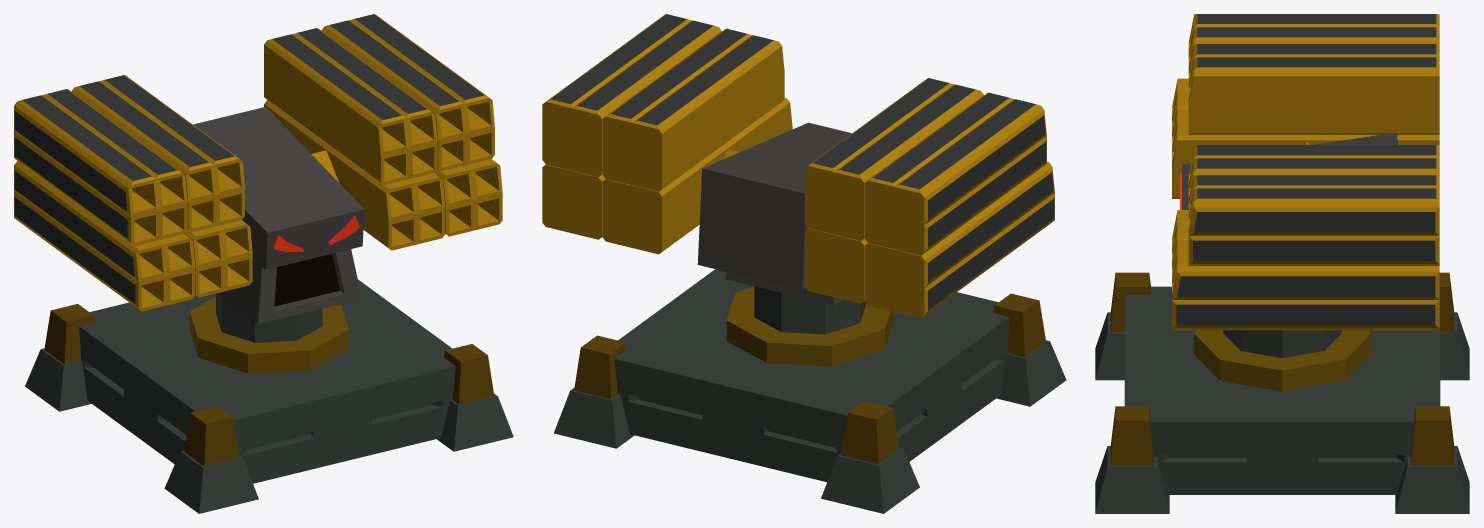
The model's file is antiair.glb.
The picture shows the model from 3 angles, left to right: view 1: azimuth 30°, elevation 25°; view 2: azimuth 150°, elevation 25°; view 3: azimuth 270°, elevation 25°; orthographic projection. The views are drawn at different scales.
Visible parts, largest first — view 1: BaseMissileTurret1; view 2: BaseMissileTurret1; view 3: BaseMissileTurret1.
Boxes of the visible parts, left/top/right/bottom form: BaseMissileTurret1: left=14, top=14, right=513, bottom=513; BaseMissileTurret1: left=542, top=14, right=1066, bottom=513; BaseMissileTurret1: left=1095, top=14, right=1469, bottom=513.
Size of the model in its own units: 3.6 by 2.83 by 2.96.
Materials: 1 (1 with a texture image).
